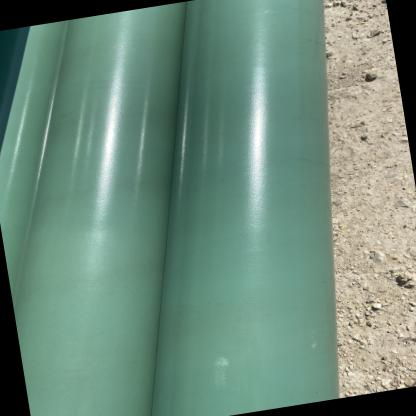clean: (214, 92, 286, 204)
